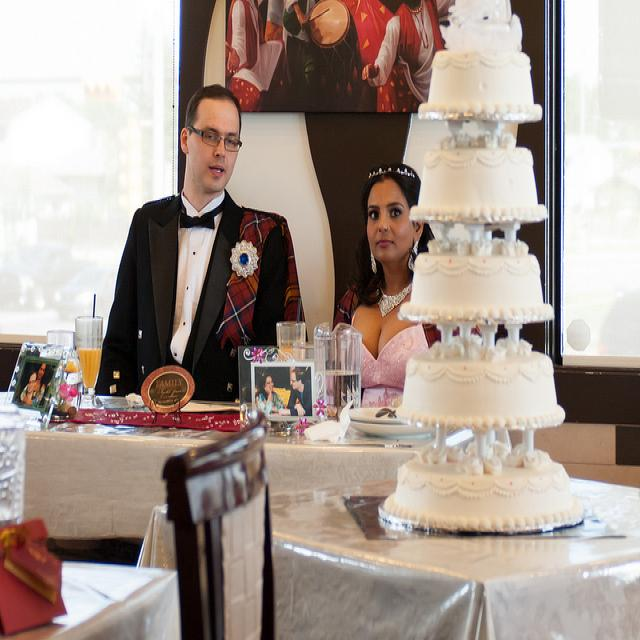chair: (162, 423, 276, 633), (534, 423, 616, 463)
dining table: (260, 473, 639, 640), (3, 394, 437, 539), (1, 522, 182, 632)
